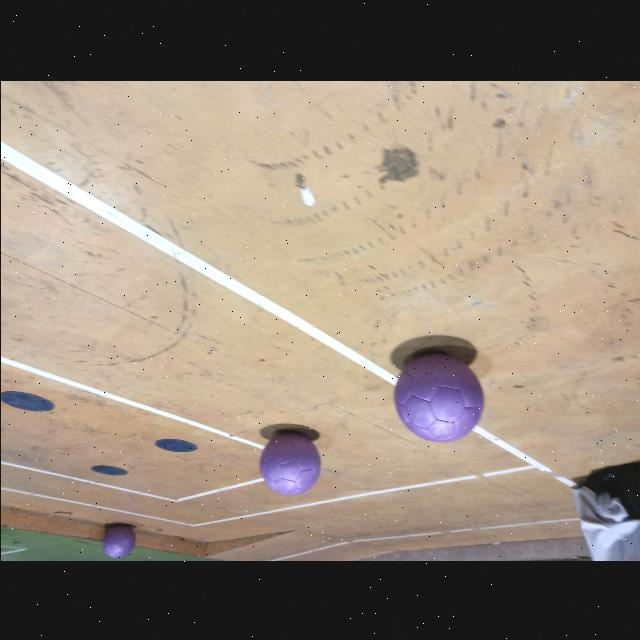P: (393, 353, 482, 441), (259, 432, 319, 494), (102, 524, 134, 558)
